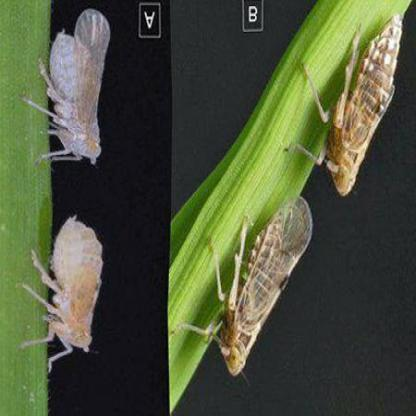brown-planthopper: (188, 193, 317, 374), (326, 14, 408, 198), (38, 13, 110, 164), (40, 214, 108, 366)
